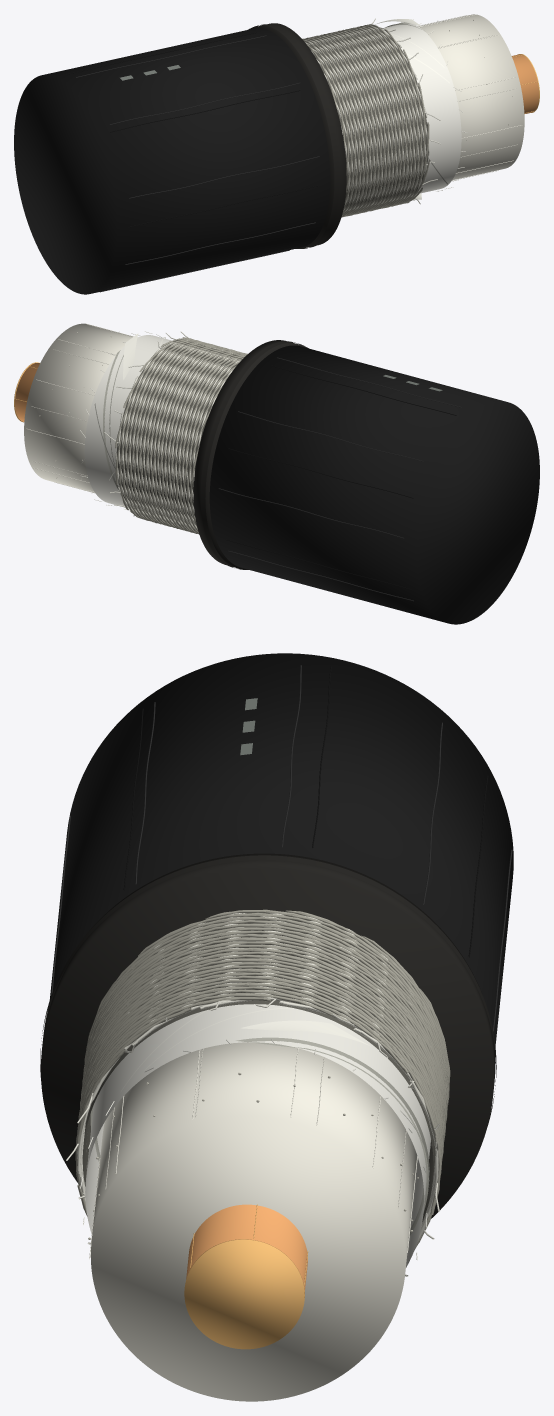
The model's file is rf-cnt400-macro.glb.
3 renders of one model, top to bottom at view 1: azimuth 30°, elevation 25°; view 2: azimuth 150°, elevation 25°; view 3: azimuth 270°, elevation 25°, orthographic. The views are drawn at different scales.
Visible parts, largest first — view 1: macro jacket body, macro dielectric exposed core, shadow seen through braid windows, continuous foil sleeve under braid, thick jacket cut wall, rounded jacket cut lip, polished solid center conductor, macro braid shadow carrier 05 strand 1, macro braid shadow carrier 04 strand 1, macro braid shadow carrier 06 strand 1, macro braid shadow carrier 03 strand 1, macro braid shadow carrier 07 strand 1 (+13 smaller); view 2: macro jacket body, macro dielectric exposed core, continuous foil sleeve under braid, shadow seen through braid windows, thick jacket cut wall, rounded jacket cut lip, macro braid shadow carrier 14 strand 1, polished solid center conductor, macro braid shadow carrier 01 strand 1, macro braid shadow carrier 12 strand 1, macro braid shadow carrier 13 strand 1, macro braid shadow carrier 02 strand 1 (+9 smaller); view 3: macro jacket body, macro dielectric exposed core, thick jacket cut wall, continuous foil sleeve under braid, polished conductor cut face glow, polished solid center conductor, rounded jacket cut lip, macro braid shadow carrier 02 strand 3, macro braid shadow carrier 01 strand 3, macro braid shadow carrier 03 strand 3, macro braid shadow carrier 13 strand 3, macro braid shadow carrier 11 strand 3 (+12 smaller).
Part boxes in pixels (<box>): macro jacket body: <box>14,28,330,294</box>; macro dielectric exposed core: <box>418,14,524,180</box>; shadow seen through braid windows: <box>309,31,428,207</box>; continuous foil sleeve under braid: <box>383,23,461,193</box>; thick jacket cut wall: <box>248,23,346,248</box>; rounded jacket cut lip: <box>252,24,339,248</box>; polished solid center conductor: <box>511,54,538,114</box>; macro braid shadow carrier 05 strand 1: <box>315,24,414,212</box>; macro braid shadow carrier 04 strand 1: <box>314,25,410,208</box>; macro braid shadow carrier 06 strand 1: <box>320,29,417,215</box>; macro braid shadow carrier 03 strand 1: <box>308,26,406,210</box>; macro braid shadow carrier 07 strand 1: <box>324,34,421,216</box>; macro jacket body: <box>209,345,539,624</box>; macro dielectric exposed core: <box>24,323,133,492</box>; continuous foil sleeve under braid: <box>84,335,171,507</box>; shadow seen through braid windows: <box>116,345,237,524</box>; thick jacket cut wall: <box>193,340,308,569</box>; rounded jacket cut lip: <box>200,341,303,569</box>; macro braid shadow carrier 14 strand 1: <box>123,344,240,532</box>; polished solid center conductor: <box>15,363,39,421</box>; macro braid shadow carrier 01 strand 1: <box>120,343,243,531</box>; macro braid shadow carrier 12 strand 1: <box>130,346,230,533</box>; macro braid shadow carrier 13 strand 1: <box>126,345,236,531</box>; macro braid shadow carrier 02 strand 1: <box>116,342,245,529</box>; macro jacket body: <box>49,653,513,1046</box>; macro dielectric exposed core: <box>90,1042,416,1401</box>; thick jacket cut wall: <box>40,853,495,1218</box>; continuous foil sleeve under braid: <box>85,1004,430,1267</box>; polished conductor cut face glow: <box>184,1239,304,1349</box>; polished solid center conductor: <box>186,1204,307,1291</box>; rounded jacket cut lip: <box>40,855,496,1124</box>; macro braid shadow carrier 02 strand 3: <box>81,934,441,1208</box>; macro braid shadow carrier 01 strand 3: <box>84,930,446,1249</box>; macro braid shadow carrier 03 strand 3: <box>79,939,445,1135</box>; macro braid shadow carrier 13 strand 3: <box>80,924,446,1153</box>; macro braid shadow carrier 11 strand 3: <box>81,917,447,1119</box>.
Size of the model in its own units: 6.5 by 2.83 by 2.94.
